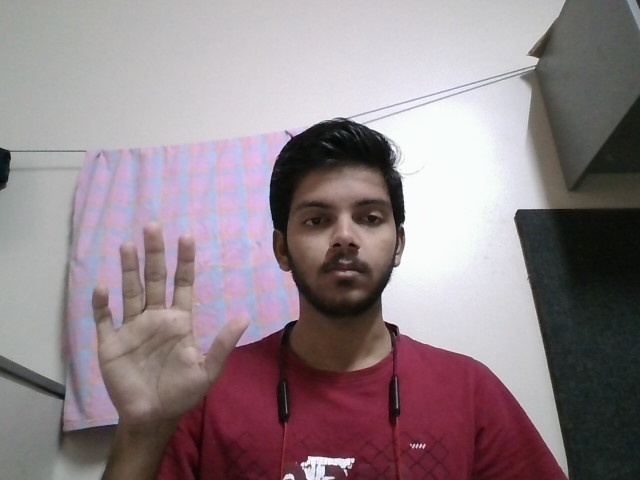Hello: (84, 217, 255, 431)
